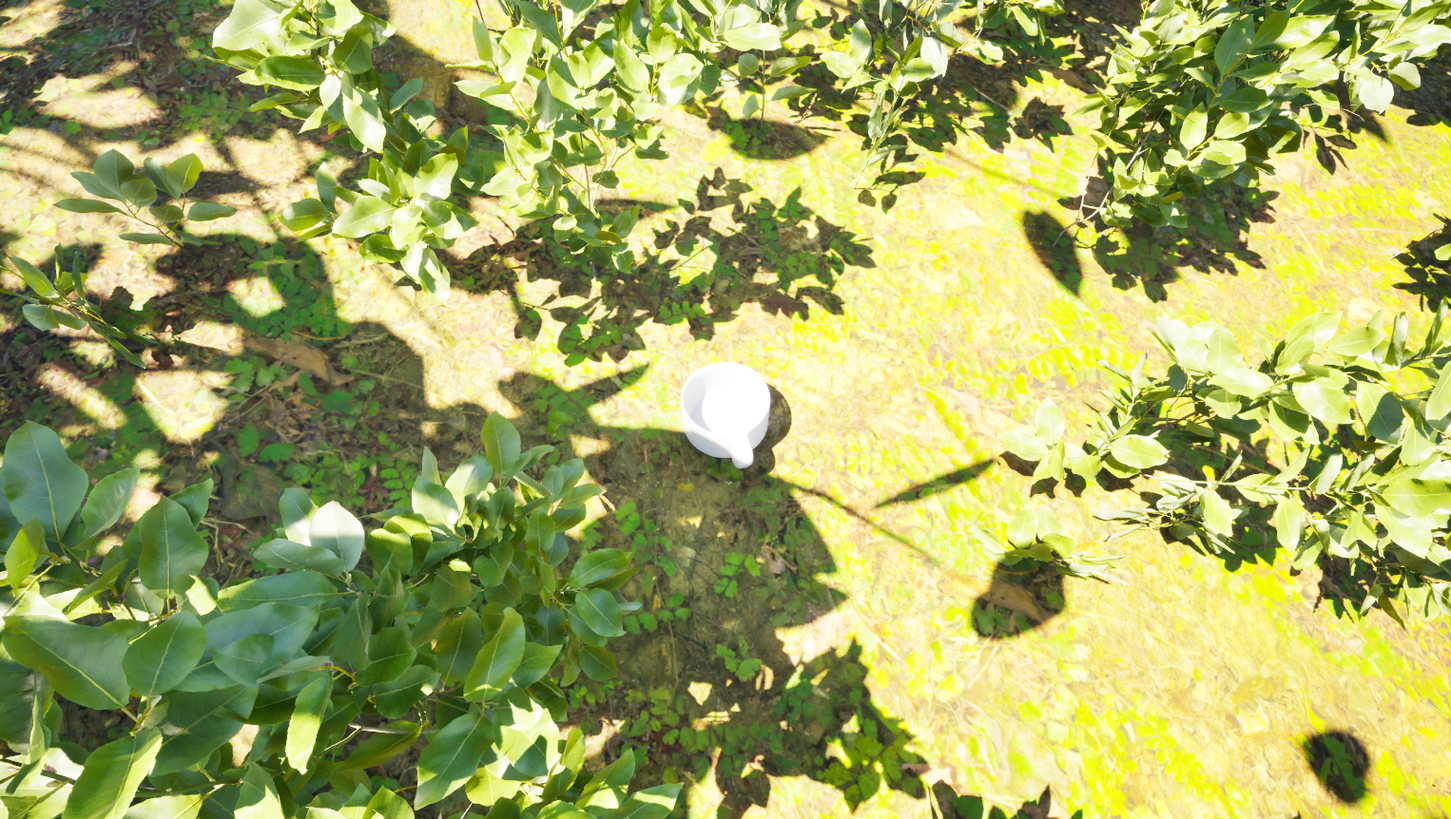Teacup: (663, 353, 780, 480)
